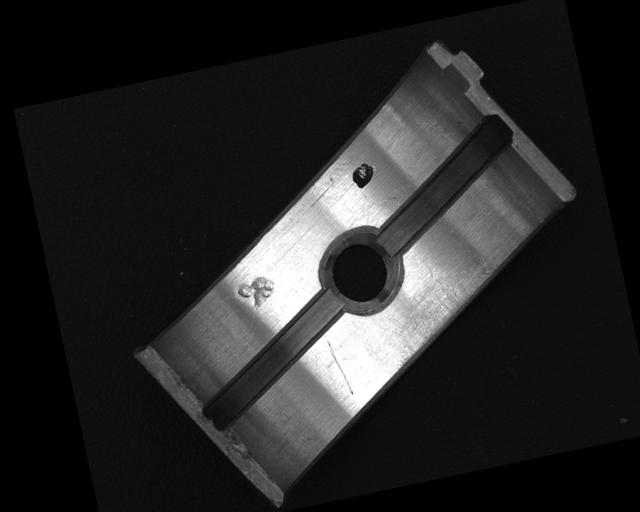blot: (349, 159, 378, 191)
bruise: (234, 273, 278, 314)
gap: (183, 290, 361, 434), (358, 112, 530, 256)
hole: (310, 221, 410, 321)
nick: (322, 330, 353, 398)
scratch: (373, 241, 524, 373)
